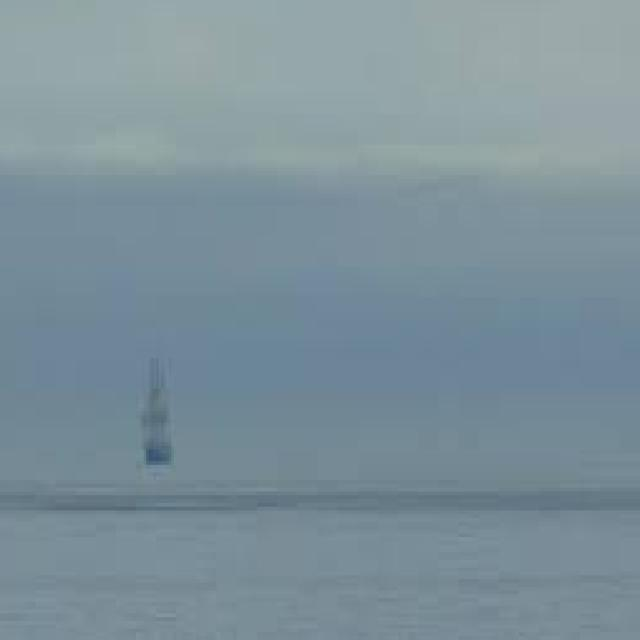fishing boat: (123, 352, 178, 483)
